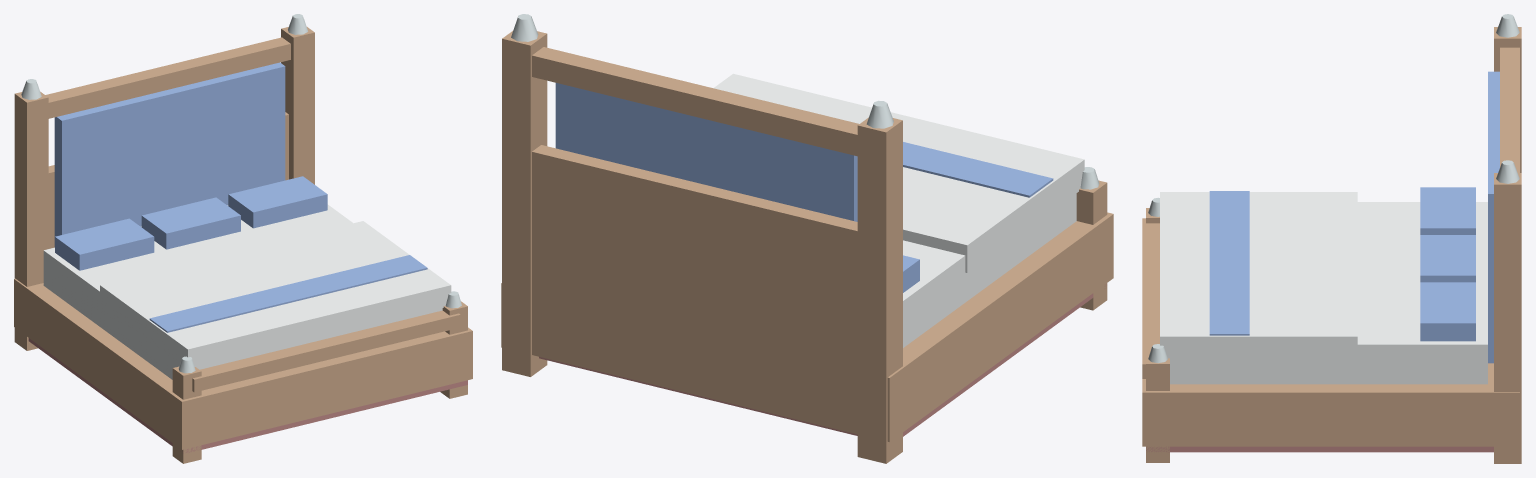
File: bedKingLuxury.glb
3 renders of one model, left to right at view 1: azimuth 30°, elevation 25°; view 2: azimuth 150°, elevation 25°; view 3: azimuth 270°, elevation 25°, orthographic. The views are drawn at different scales.
Parts seen in each view (by area): view 1: bedKingLuxury; view 2: bedKingLuxury; view 3: bedKingLuxury.
Boxes of the visible parts, x1=… form: bedKingLuxury: x1=14, y1=14, x2=472, y2=463; bedKingLuxury: x1=501, y1=14, x2=1113, y2=463; bedKingLuxury: x1=1142, y1=14, x2=1521, y2=463.
Bounding box in the file's own units: 0.95 × 0.82 × 0.955.
